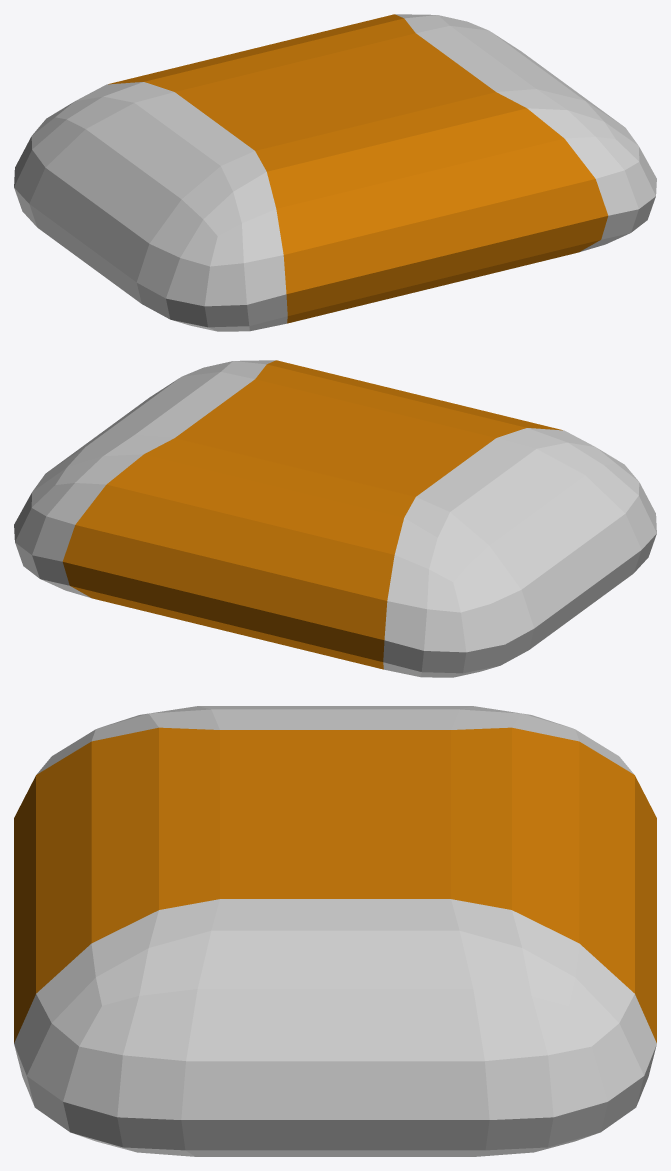
File: cement_bag.glb
The picture shows the model from 3 angles, top to bottom: view 1: azimuth 30°, elevation 25°; view 2: azimuth 150°, elevation 25°; view 3: azimuth 270°, elevation 25°; orthographic projection. The views are drawn at different scales.
Parts seen in each view (by area): view 1: Cement_Bag_A; view 2: Cement_Bag_A; view 3: Cement_Bag_A.
Part boxes in pixels (<box>): Cement_Bag_A: <box>14,14,656,331</box>; Cement_Bag_A: <box>14,360,656,677</box>; Cement_Bag_A: <box>14,706,656,1156</box>.
Bounding box in the file's own units: 0.7 × 0.1802 × 0.5374.
